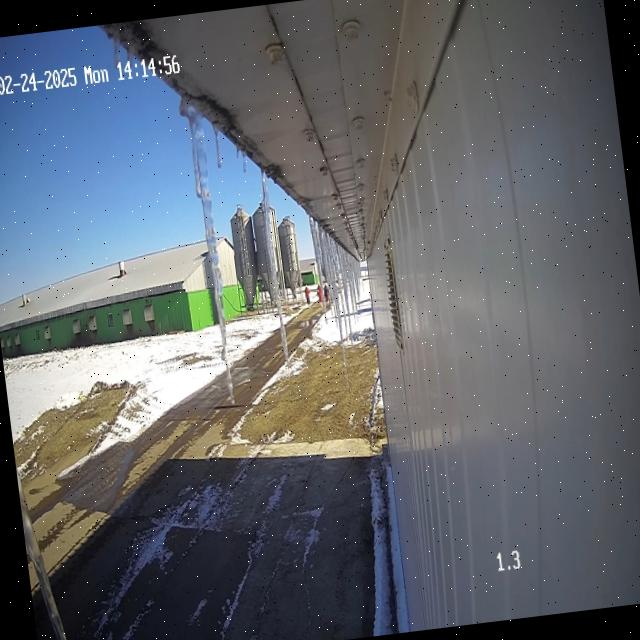Red uniform: (323, 280, 330, 308), (317, 284, 322, 307), (304, 285, 310, 304)
